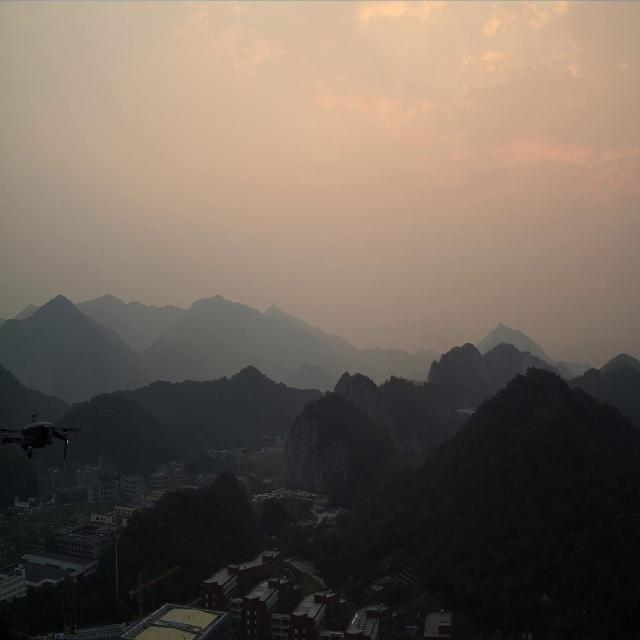UAV: (0, 410, 83, 461)
